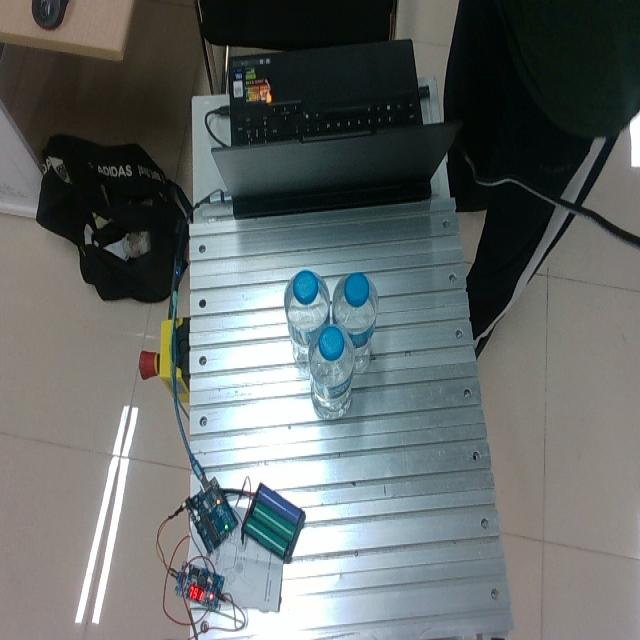lavie: (307, 321, 356, 419), (332, 272, 379, 373), (285, 269, 330, 371)
